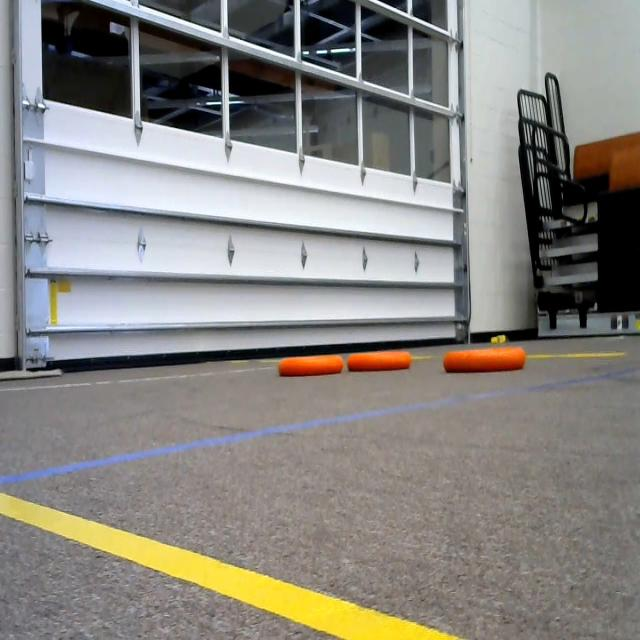note: (440, 344, 527, 378), (346, 346, 418, 375), (276, 346, 342, 376)
